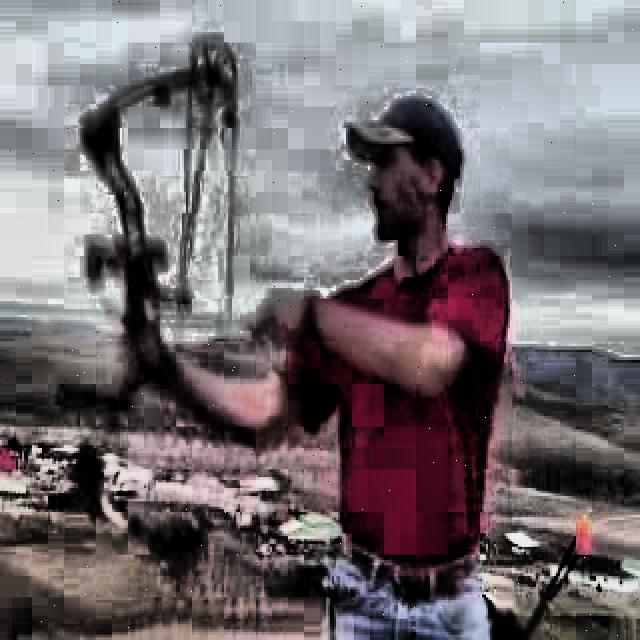P: (102, 83, 512, 592)
